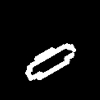chain: (25, 43, 75, 80)
